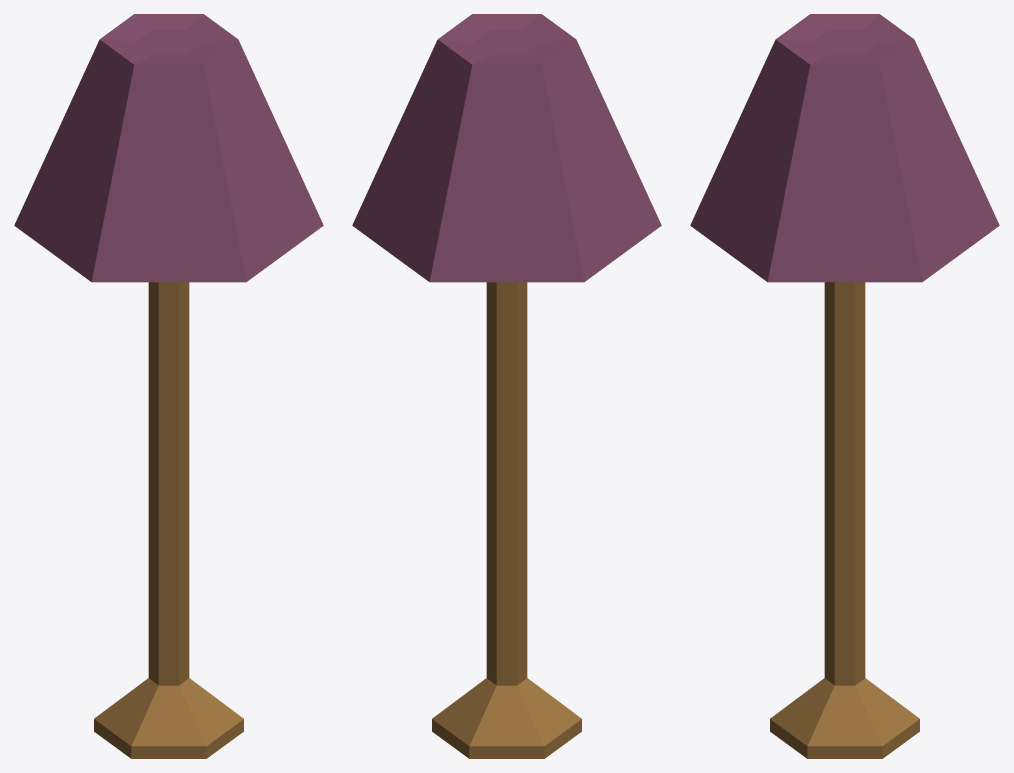
Rendered from DimLamp_Material.fbx.
The picture shows the model from 3 angles, left to right: view 1: azimuth 30°, elevation 25°; view 2: azimuth 150°, elevation 25°; view 3: azimuth 270°, elevation 25°; orthographic projection.
Parts seen in each view (by area): view 1: DimLamp; view 2: DimLamp; view 3: DimLamp.
Boxes of the visible parts, <box> form: DimLamp: <box>14,14,323,758</box>; DimLamp: <box>352,14,661,758</box>; DimLamp: <box>690,14,999,758</box>.
Bounding box in the file's own units: 0.3637 × 1.04 × 0.42.
